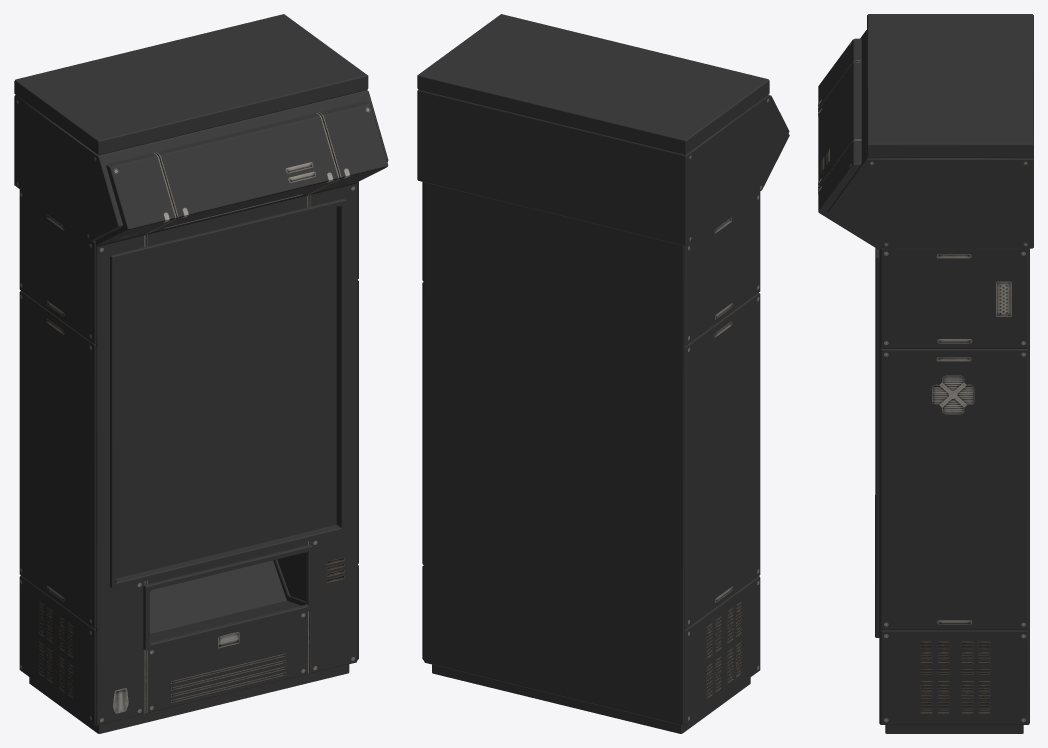
The model's file is SM_Vending_Machine_01.FBX.
The picture shows the model from 3 angles, left to right: view 1: azimuth 30°, elevation 25°; view 2: azimuth 150°, elevation 25°; view 3: azimuth 270°, elevation 25°; orthographic projection.
Parts seen in each view (by area): view 1: SM_Vending_Machine_01_LOD0; view 2: SM_Vending_Machine_01_LOD0; view 3: SM_Vending_Machine_01_LOD0.
Part boxes in pixels (bbox=[...]): SM_Vending_Machine_01_LOD0: bbox=[14, 14, 388, 733]; SM_Vending_Machine_01_LOD0: bbox=[417, 14, 789, 733]; SM_Vending_Machine_01_LOD0: bbox=[818, 14, 1033, 733].
Size of what is drawn, in the model's own units: 146 by 102 by 310.
